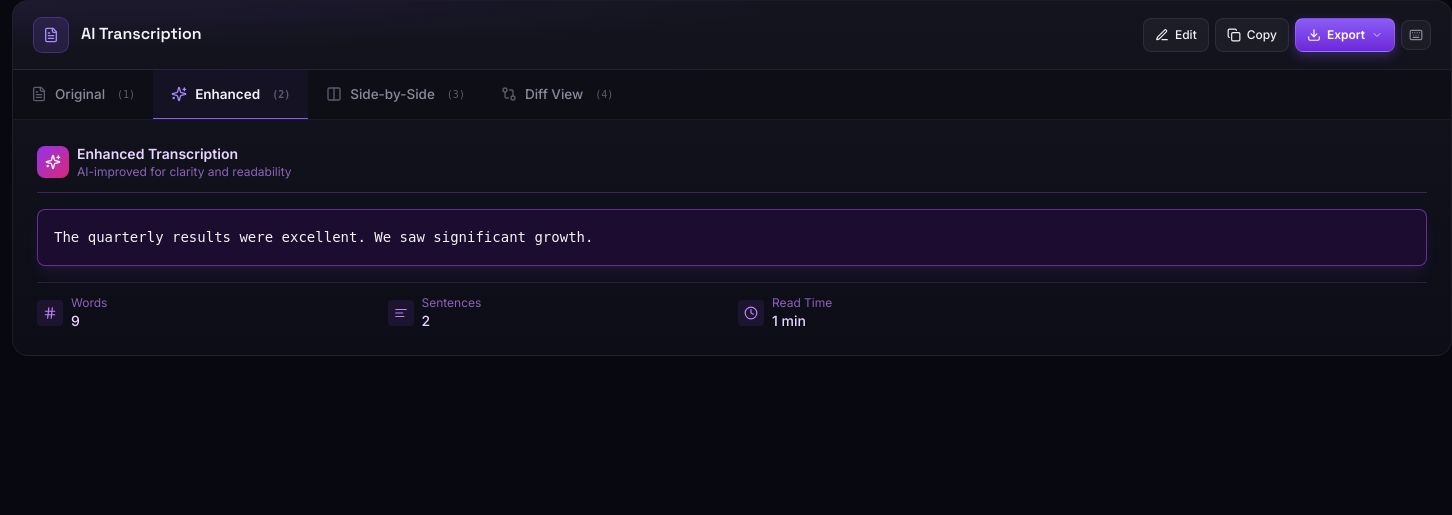
Test case: TabbedTranscriptionView › Diff Tab › shows changes in diff view
The width and height of the screenshot is (1452, 515).
Step 1. Click the tab "Diff View (4)" → (557, 95), box 483,70 -> 631,120
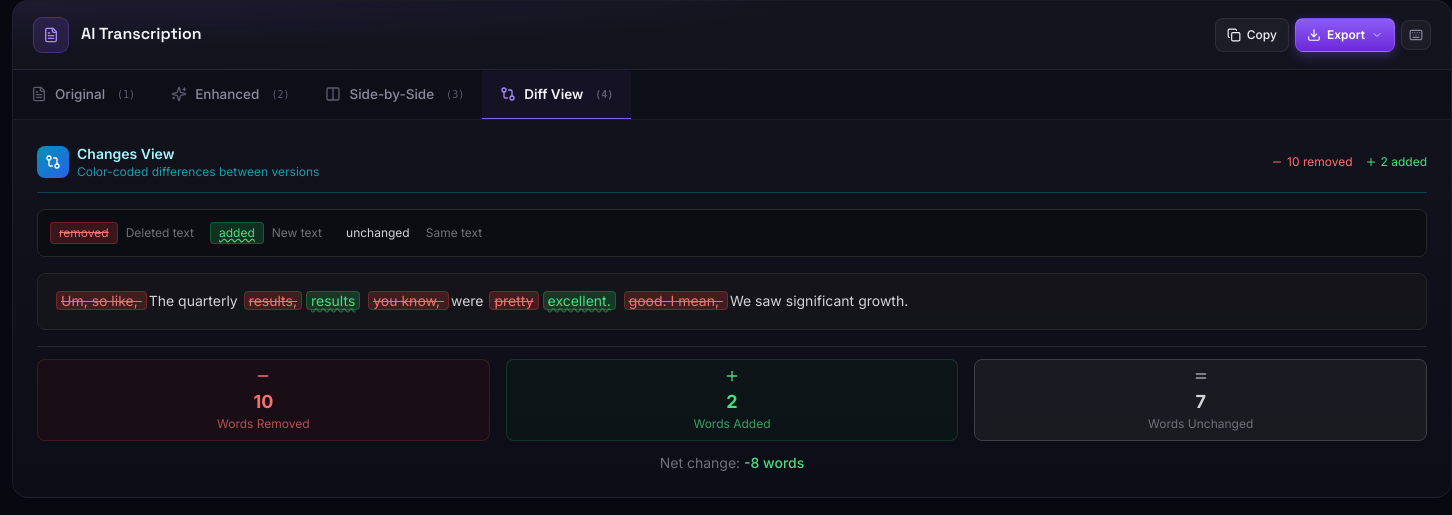
Check: the heading "Changes View" is shown, box 77,145 -> 174,162
